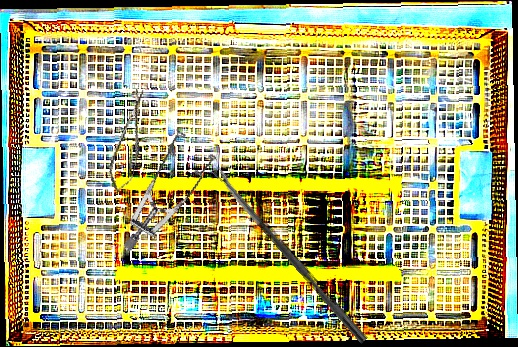Micro Scissor: (103, 86, 156, 195)
Speculum: (90, 119, 237, 253)
Surgical Spoon: (212, 166, 369, 344)
